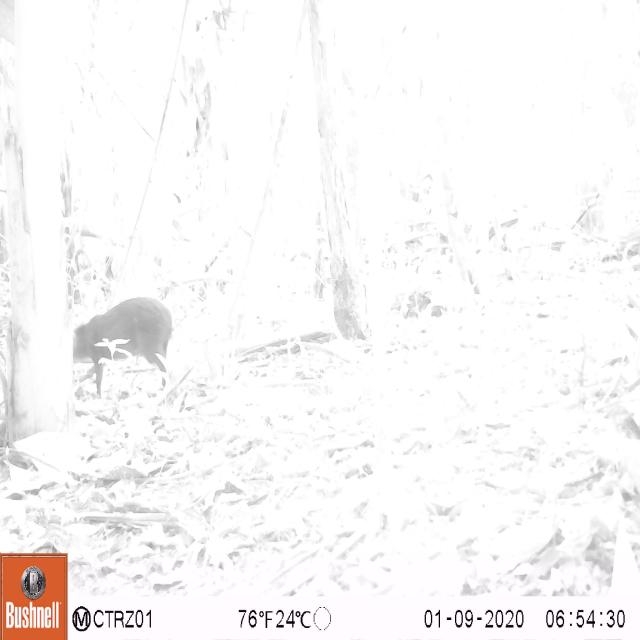Black Agouti: (72, 287, 184, 409)
